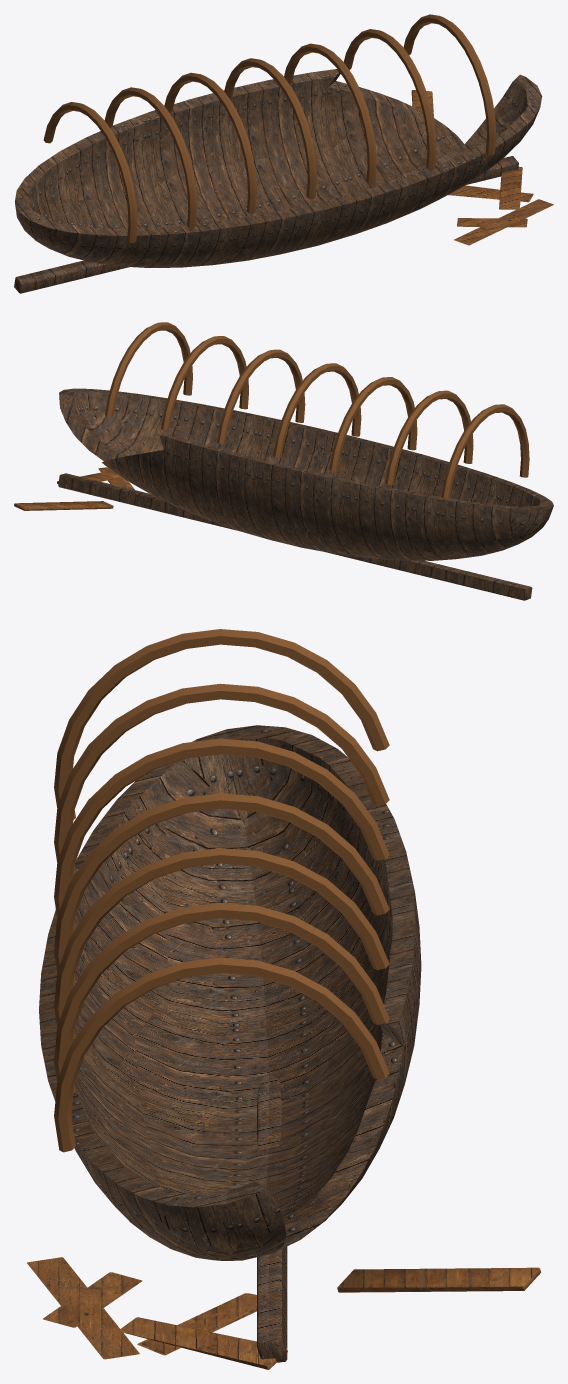
The model's file is boat-wreck-v01.glb.
The picture shows the model from 3 angles, top to bottom: view 1: azimuth 30°, elevation 25°; view 2: azimuth 150°, elevation 25°; view 3: azimuth 270°, elevation 25°; orthographic projection. The views are drawn at different scales.
Parts seen in each view (by area): view 1: boat-wreck; view 2: boat-wreck; view 3: boat-wreck.
Part boxes in pixels (x1,y1,x2,y2): boat-wreck: (14, 14, 553, 293); boat-wreck: (14, 322, 553, 600); boat-wreck: (27, 629, 540, 1369).
Bounding box in the file's own units: 5.2 × 1.71 × 2.38.
Materials: 2 (2 with a texture image).
